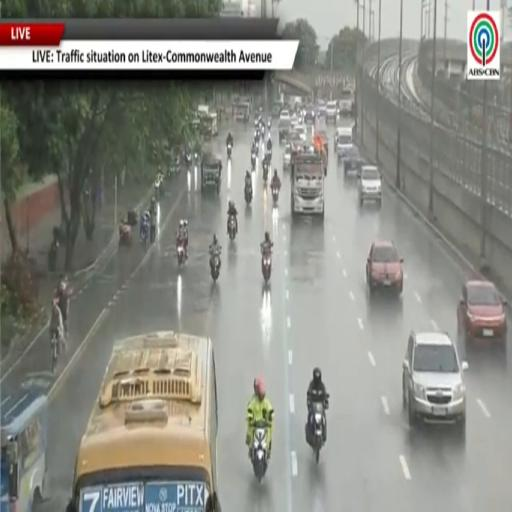bus: (67, 331, 220, 511), (0, 376, 50, 511)
car: (403, 332, 467, 436), (458, 280, 507, 349), (366, 239, 403, 295), (358, 165, 381, 205), (343, 146, 362, 175), (315, 131, 329, 153), (326, 101, 338, 122), (292, 124, 306, 142), (283, 143, 291, 171), (305, 106, 316, 124), (316, 101, 326, 118), (272, 102, 282, 118), (279, 109, 290, 121)
jeepney: (201, 152, 221, 194)
motorcycle: (307, 395, 328, 463), (252, 422, 269, 482), (51, 332, 61, 373), (210, 248, 220, 282), (119, 222, 131, 247), (262, 252, 271, 282), (177, 240, 186, 266), (228, 216, 236, 241), (141, 219, 149, 244), (154, 178, 161, 201), (263, 159, 269, 183), (245, 187, 252, 205), (272, 186, 278, 204), (186, 152, 192, 169), (265, 149, 272, 162), (227, 143, 232, 158), (251, 153, 255, 171), (255, 131, 260, 143), (261, 122, 265, 136), (268, 121, 271, 132)
truck: (291, 149, 324, 218), (339, 88, 354, 117)
